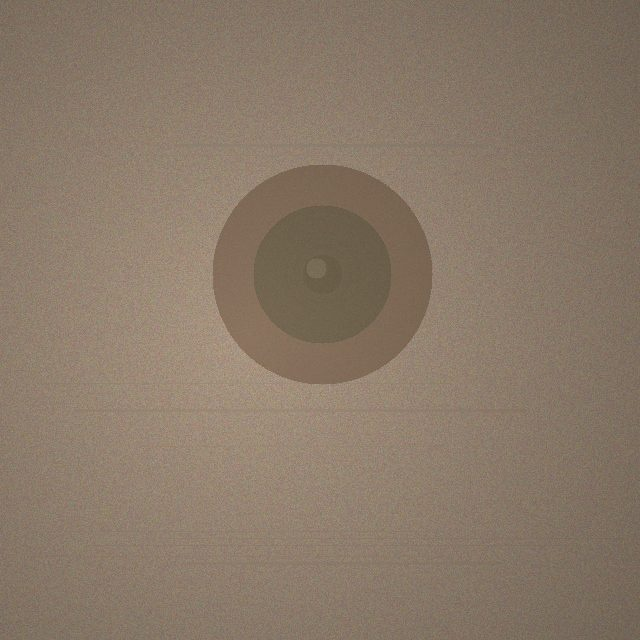good: (212, 164, 432, 384)
